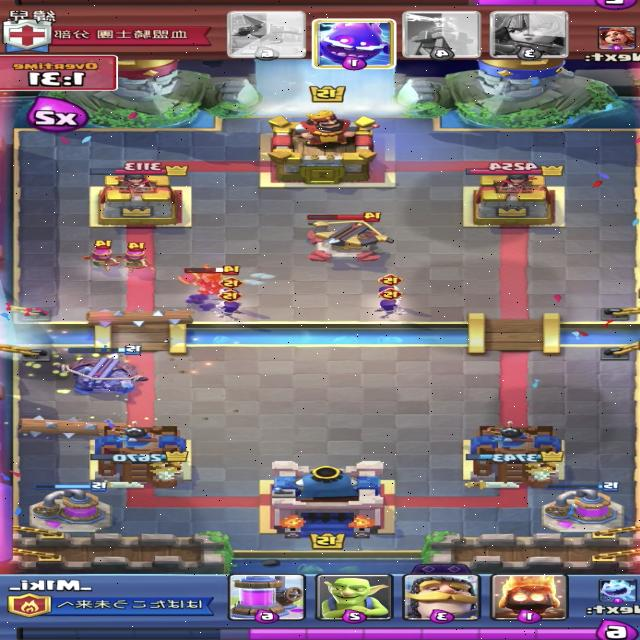Enemy-Archer: (79, 239, 126, 272), (116, 241, 156, 274)
Enemy-Log: (12, 415, 133, 438)
Enemy-Skeleton-Evo: (374, 286, 408, 320), (217, 288, 246, 320), (216, 274, 246, 304), (375, 274, 406, 303)
Enemy-Valkyrie: (177, 265, 242, 301)
Enemy-XBow: (301, 212, 391, 264)
Player-ElixirPump: (537, 482, 626, 534), (26, 481, 113, 534)
Player-XBow: (50, 345, 144, 394)
